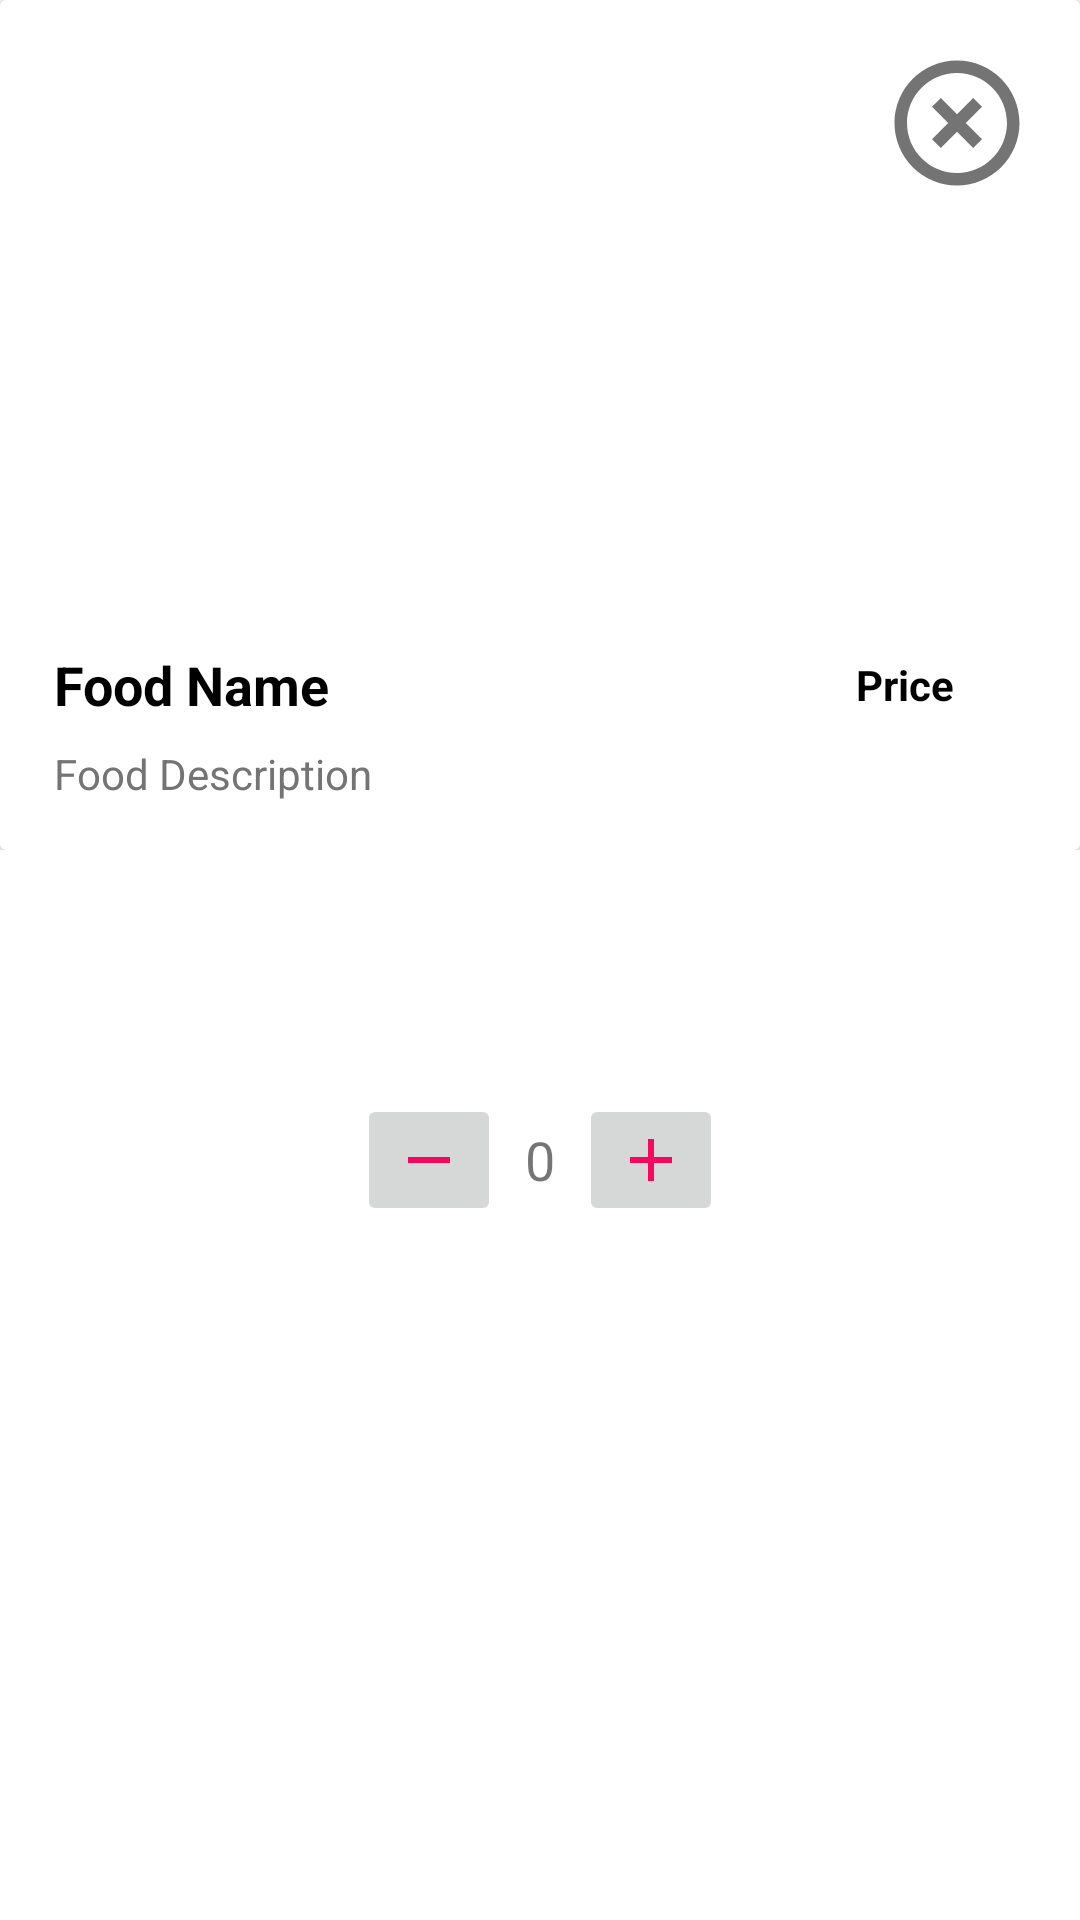

Point at icon controls on the screen. Image size 1080 x 1920, points as (x,y).
close: (957,123)
minus: (429,1160)
plus: (651,1160)
